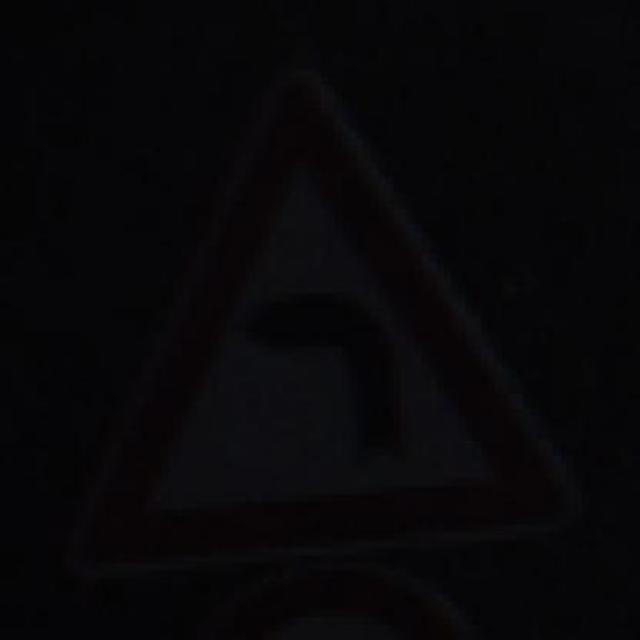Dangerous Left Curve Ahead: (51, 77, 597, 571)
